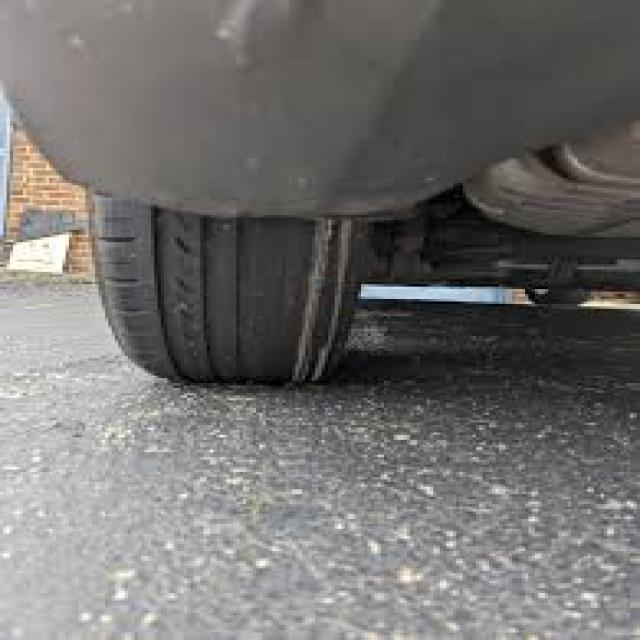Flat spots: (98, 209, 373, 386)
